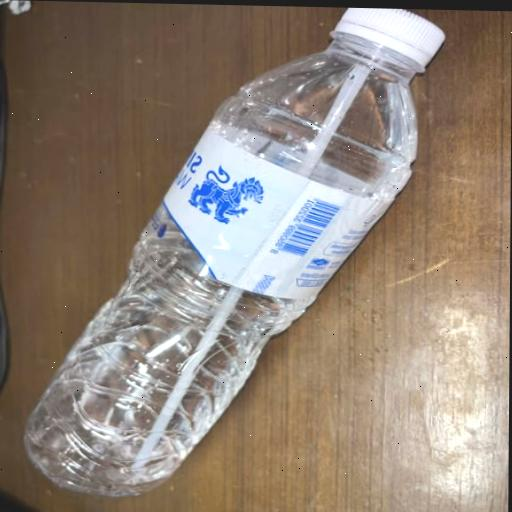bottle: (12, 0, 465, 509)
